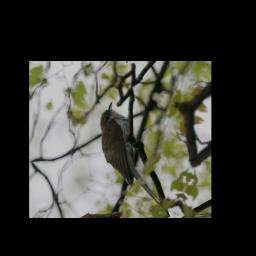Cuckoo: (80, 100, 189, 207)
